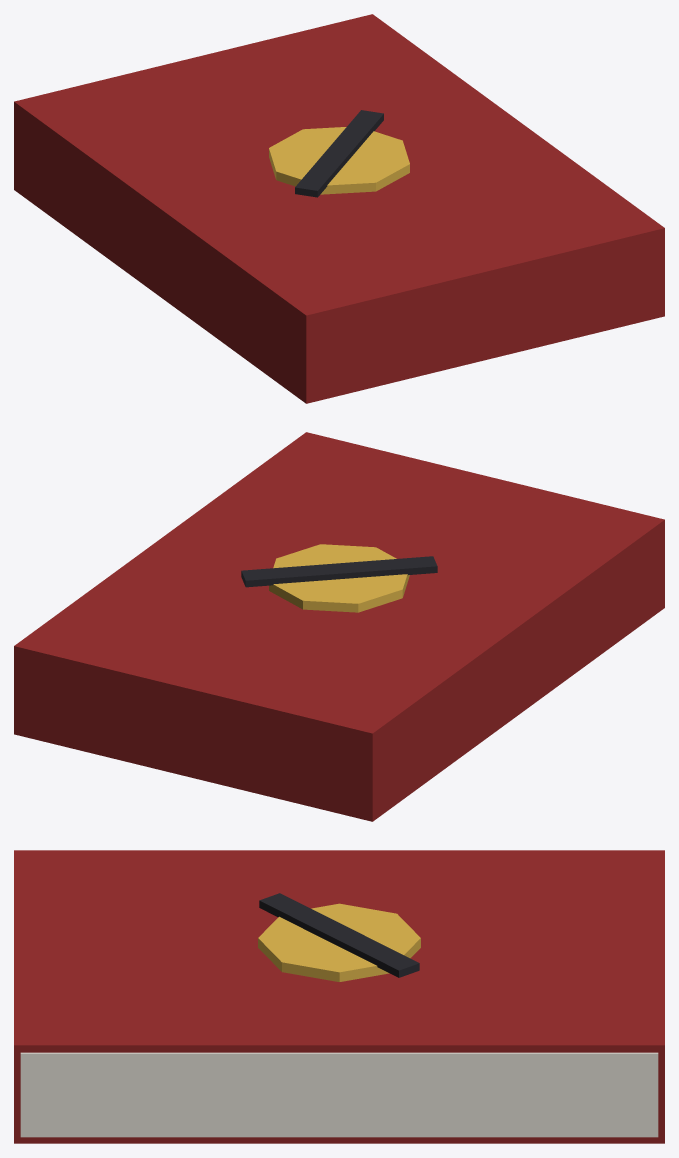
Rendered from fair_rig_manual.glb.
3 renders of one model, top to bottom at view 1: azimuth 30°, elevation 25°; view 2: azimuth 150°, elevation 25°; view 3: azimuth 270°, elevation 25°, orthographic. The views are drawn at different scales.
Visible parts, largest first — view 1: cover_manual_cover, teddy_fair_gold, cross_list_ink; view 2: cover_manual_cover, teddy_fair_gold, cross_list_ink; view 3: cover_manual_cover, pages_fair_white, teddy_fair_gold, cross_list_ink.
Boxes of the visible parts, x1=… form: cover_manual_cover: x1=14, y1=14, x2=664, y2=403; teddy_fair_gold: x1=269, y1=127, x2=409, y2=194; cross_list_ink: x1=295, y1=110, x2=383, y2=197; cover_manual_cover: x1=14, y1=432, x2=664, y2=821; teddy_fair_gold: x1=269, y1=544, x2=409, y2=612; cross_list_ink: x1=241, y1=556, x2=437, y2=587; cover_manual_cover: x1=14, y1=850, x2=664, y2=1143; pages_fair_white: x1=20, y1=1052, x2=658, y2=1137; teddy_fair_gold: x1=258, y1=903, x2=420, y2=981; cross_list_ink: x1=259, y1=893, x2=419, y2=977.
Bounding box in the file's own units: 0.171 × 0.0465 × 0.24.
